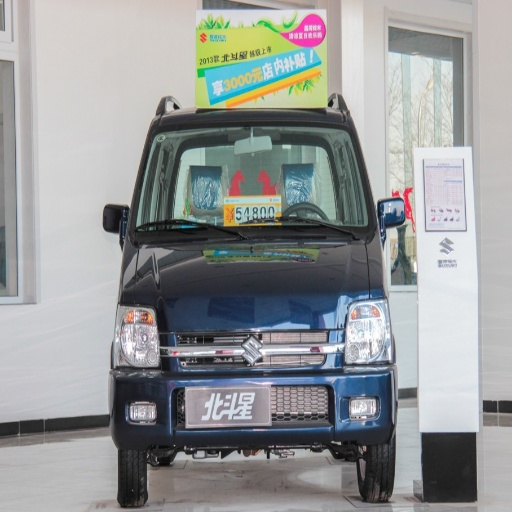front_bumper: (111, 299, 392, 447)
front_right_light: (118, 301, 159, 367)
hood: (131, 233, 369, 330)
trunk: (268, 327, 340, 384)
